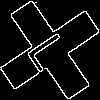L: (25, 25, 79, 74)
